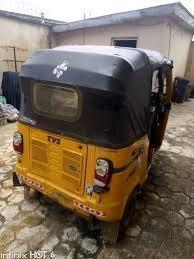keke: (9, 42, 174, 253)
